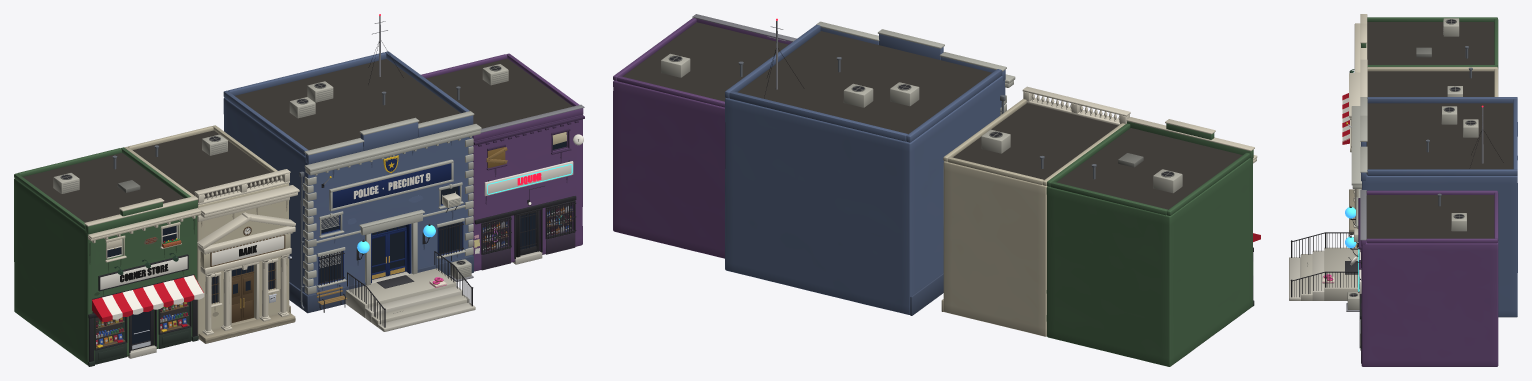
Rendered from shops.glb.
3 renders of one model, left to right at view 1: azimuth 30°, elevation 25°; view 2: azimuth 150°, elevation 25°; view 3: azimuth 270°, elevation 25°, orthographic. The views are drawn at different scales.
Visible parts, largest first — view 1: Precinct9, CornerStore, Liquor, Bank, Precinct9_Steps; view 2: Precinct9, CornerStore, Liquor, Bank; view 3: Liquor, Precinct9, CornerStore, Bank, Precinct9_Steps, Precinct9_Globes.
Boxes of the visible parts, x1,y1,x2,y2 form: Precinct9: (223, 14, 481, 313); CornerStore: (14, 147, 204, 366); Liquor: (421, 53, 584, 271); Bank: (124, 125, 299, 343); Precinct9_Steps: (345, 251, 475, 331); Precinct9: (725, 18, 1015, 315); CornerStore: (1046, 117, 1260, 366); Liquor: (613, 14, 796, 258); Bank: (941, 86, 1130, 336); Liquor: (1348, 189, 1498, 366); Precinct9: (1345, 97, 1517, 317); CornerStore: (1342, 14, 1498, 144); Bank: (1349, 59, 1498, 234); Precinct9_Steps: (1289, 232, 1358, 300); Precinct9_Globes: (1345, 207, 1356, 248).
Size of the model in its own units: 27.07 by 11.41 by 11.72.
